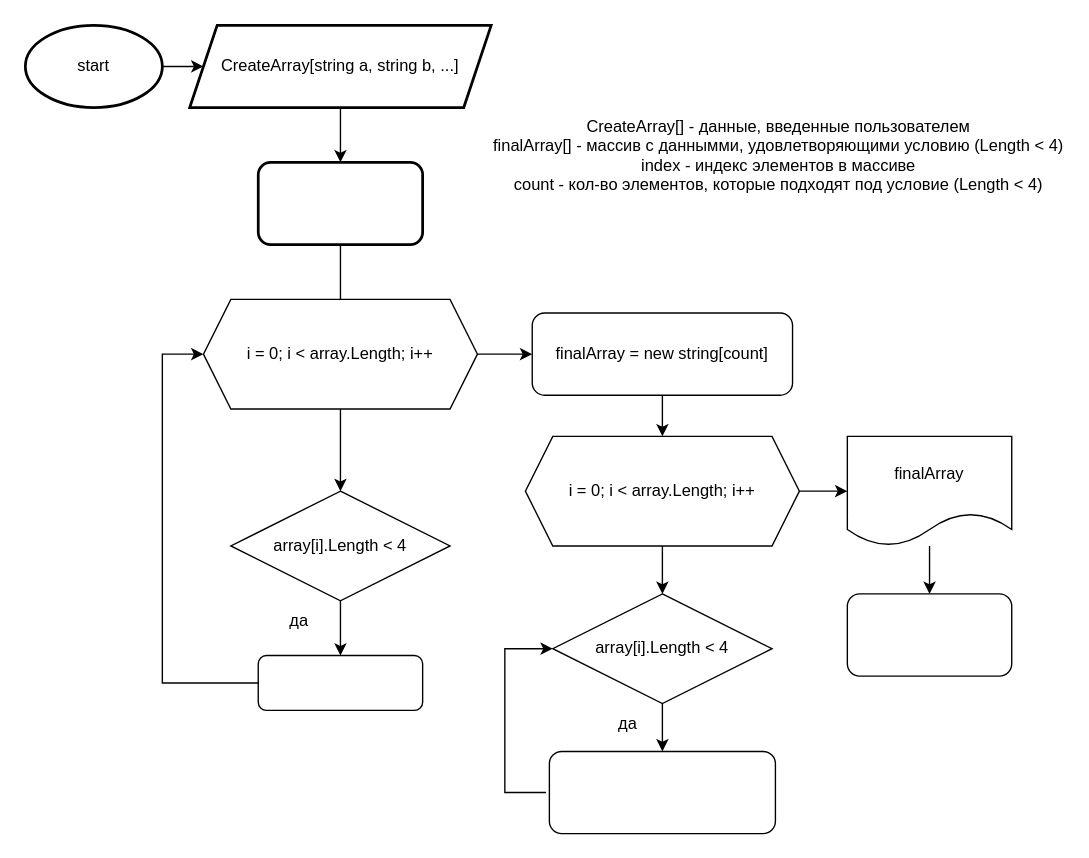
This 1089x858 diagram has some shape labels left out. Each missing label, with the centre of its shape:
"count++" belongs at (340,682).
"finalArray[index] = array[i] index++" belongs at (661,792).
"finish" belongs at (929,634).
"index = 0 count = 0" belongs at (339,202).
